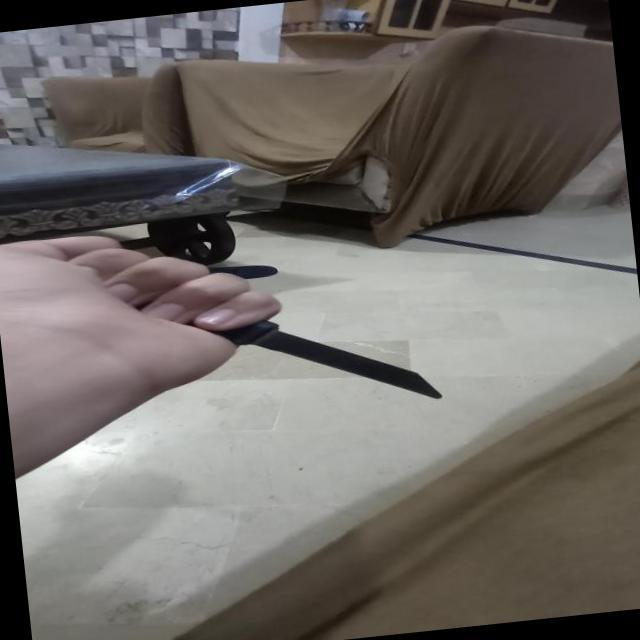Knife: (83, 236, 474, 454)
